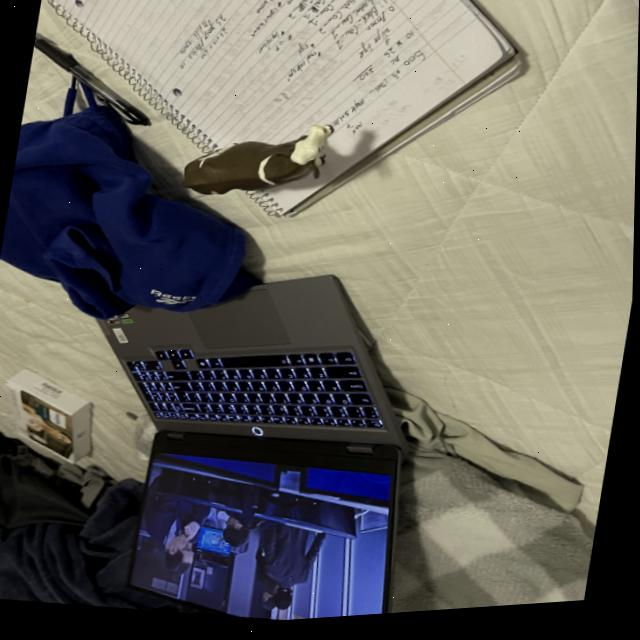cow: (178, 127, 341, 209)
